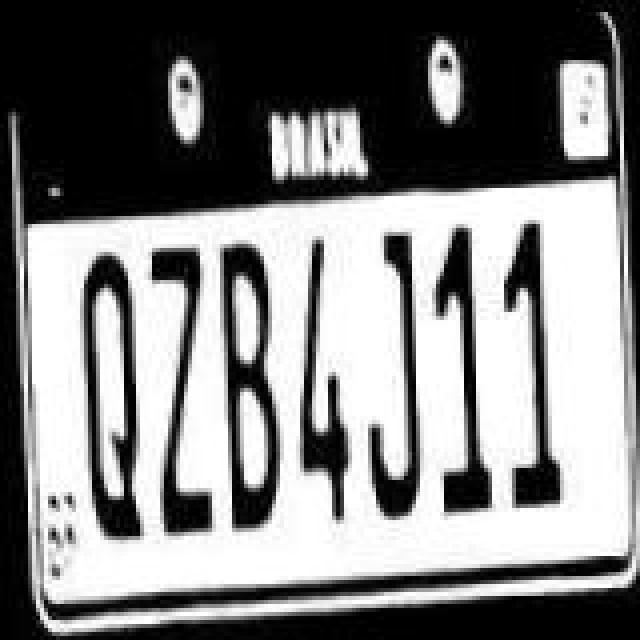1: (488, 216, 572, 512), (416, 222, 500, 510)
4: (284, 224, 360, 524)
B: (206, 232, 286, 528)
J: (348, 226, 424, 518)
Q: (66, 254, 146, 538)
Z: (138, 246, 218, 534)
